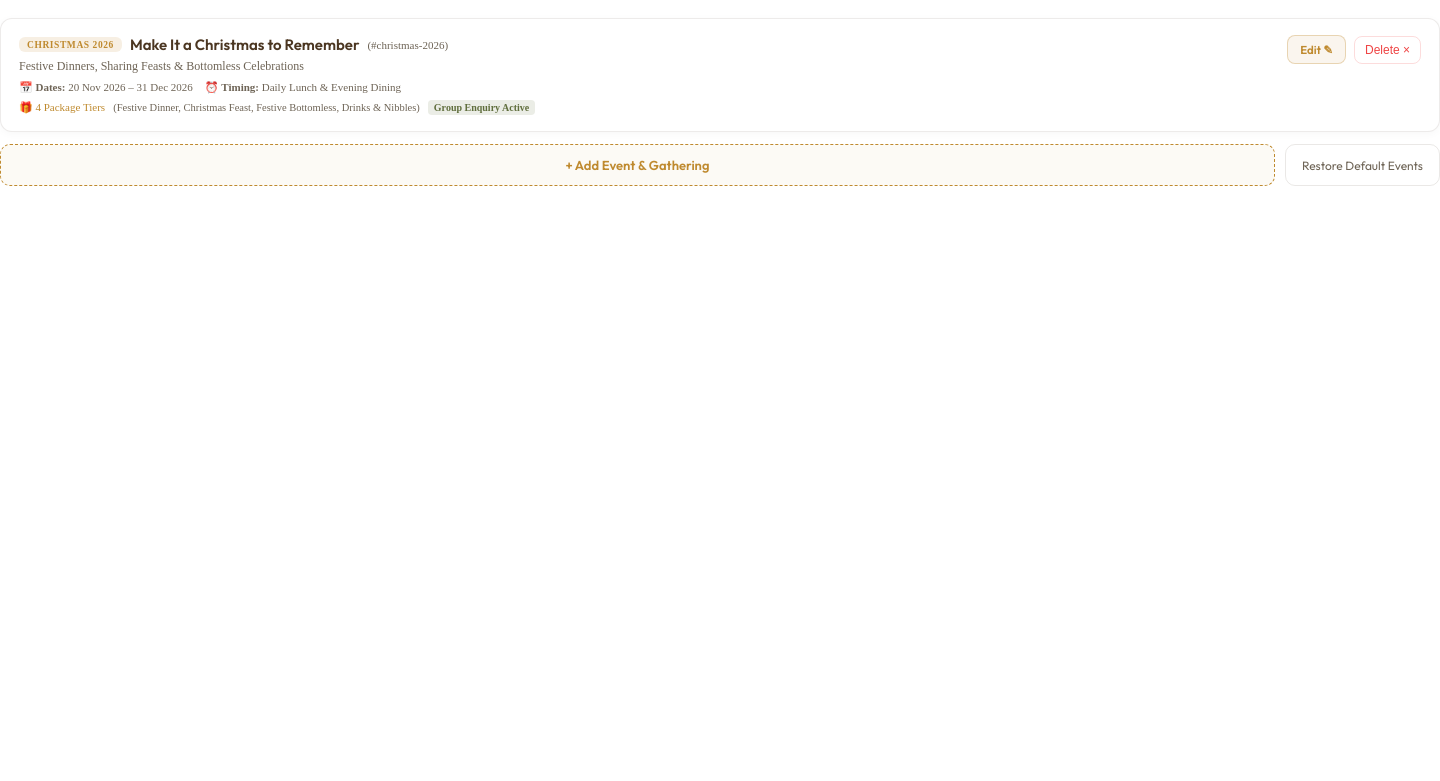
Test: EventsManager: Staff Events & Gatherings Portal Management › allows staff to create and add a brand new event
Note: Click Add Event
Click the button "+ Add Event & Gathering". click: x=637, y=165
box: [0,144,1275,186]
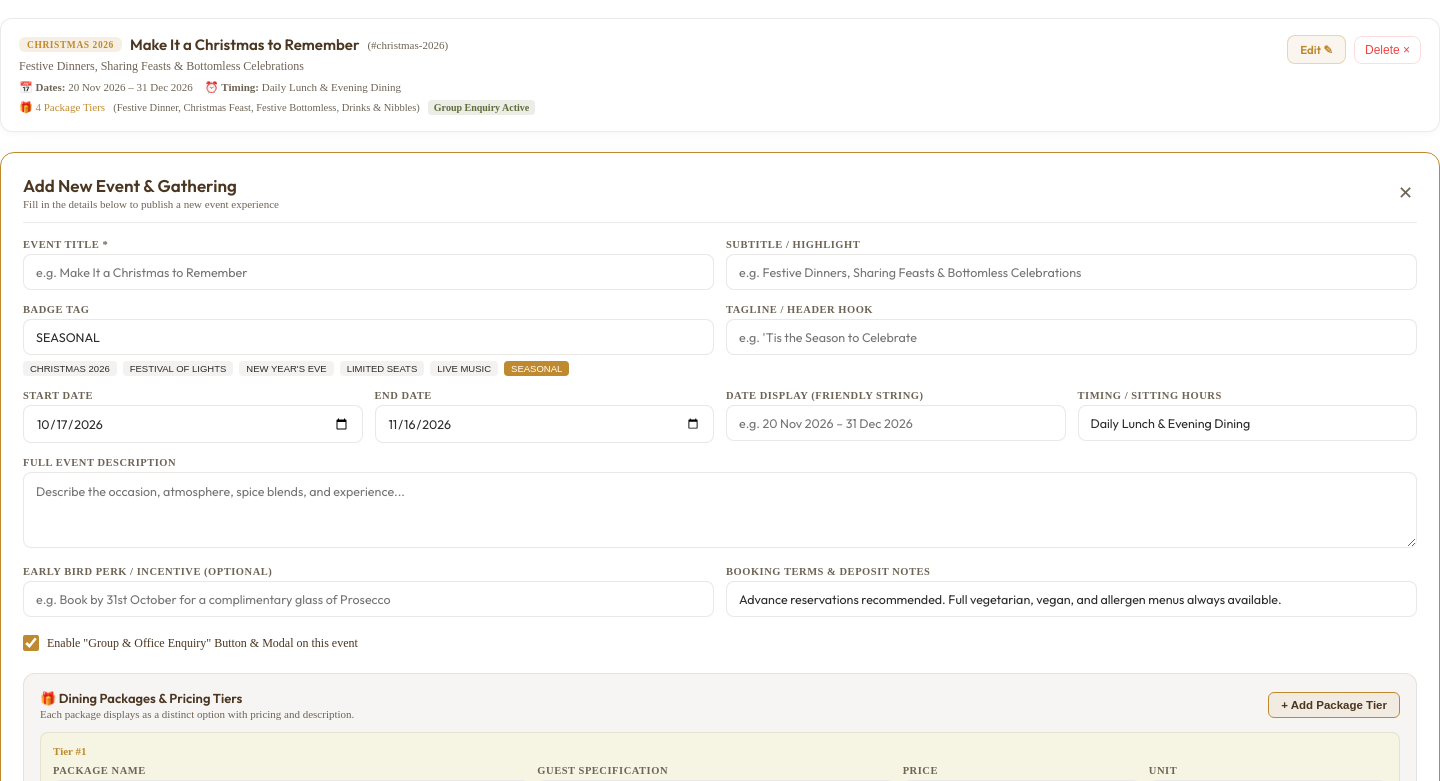
Check: the heading "Add New Event & Gathering" is shown, box [23,175,237,196]
Note: Fill in required Title
Type "Spring Equinox Spice Gala 2027" into the field with placeholder "e.g. Make It a Christmas to Remember". click: x=368, y=272
box: [23,254,714,290]
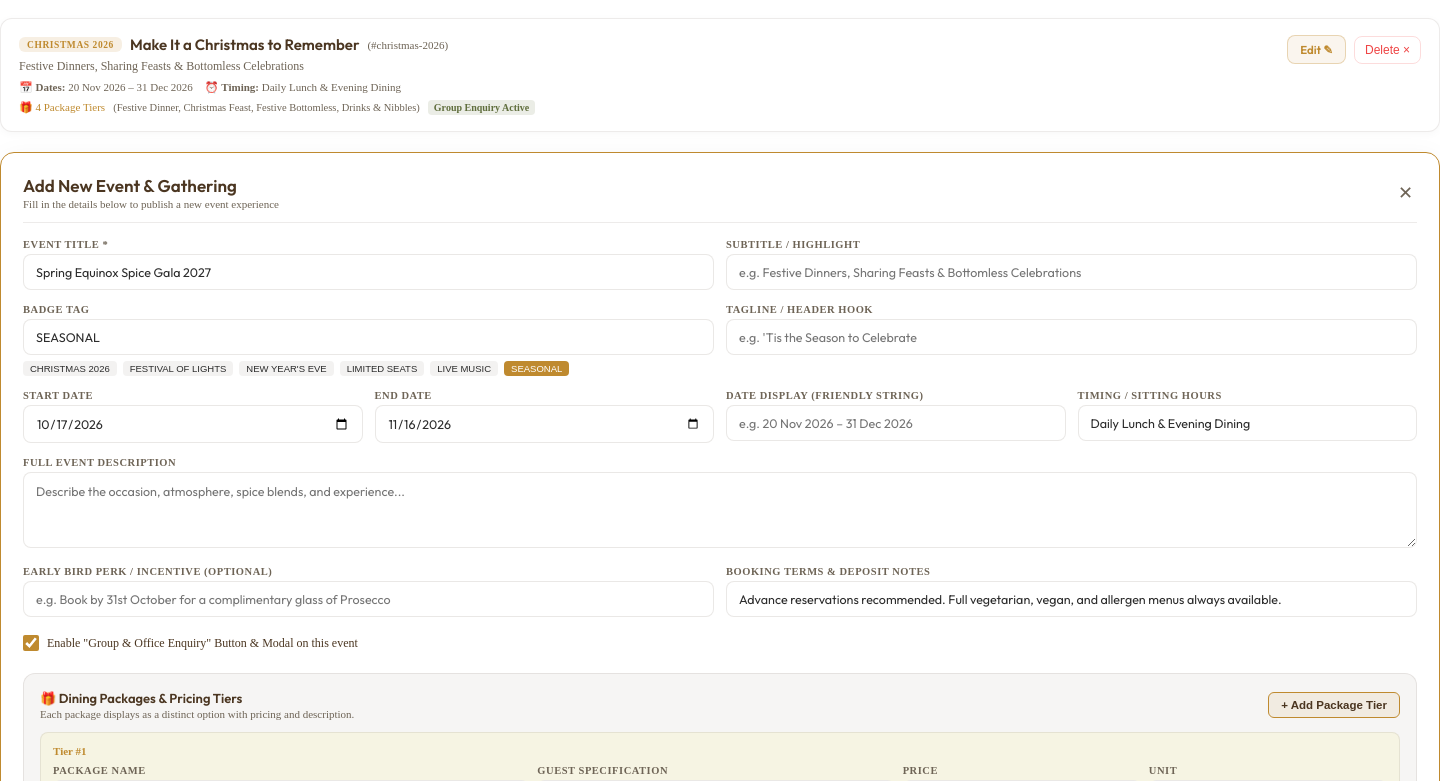
Replace the text in the field with placeholder "Festive Dinners, Sharing Feasts" with "Celebratory 5-Course Tasting Menu". click: x=1072, y=272
box: [726,254,1417,290]
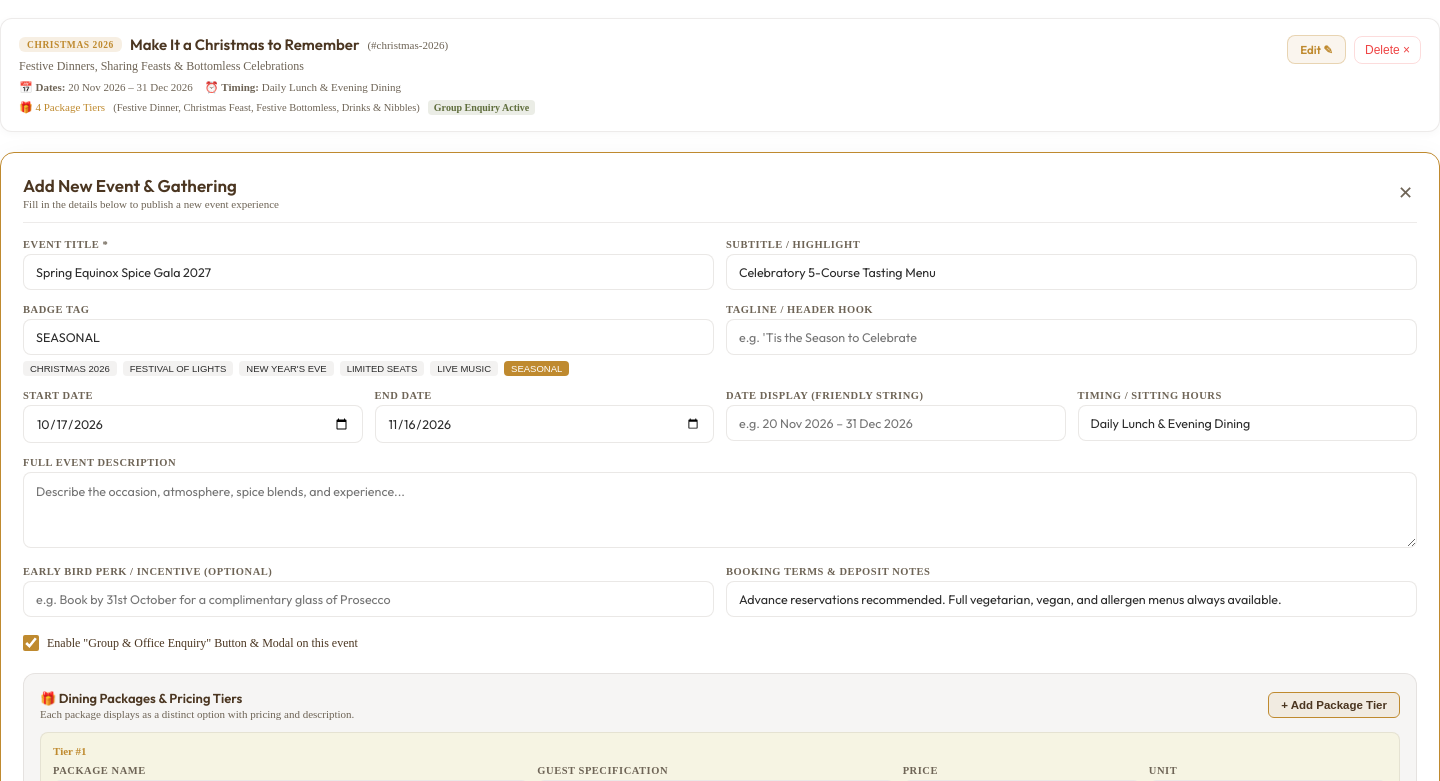
Type "20 Mar 2027 – 22 Mar 2027" into the field with placeholder "e.g. 20 Nov 2026 – 31 Dec 2026". click: x=896, y=423
box: [726,405,1066,441]
(page scrolled)
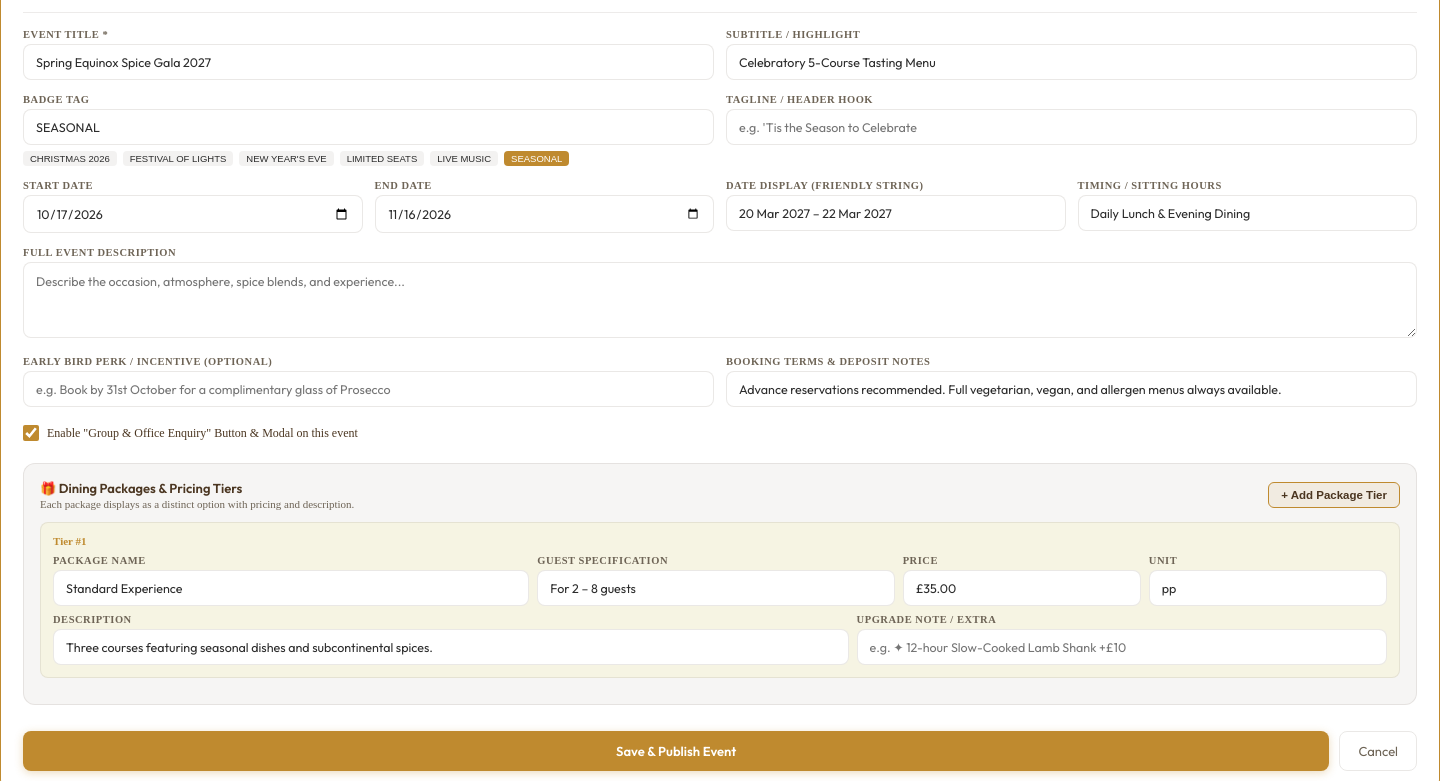
Click the button "Save & Publish Event". click: x=676, y=751
box: [23,731,1330,771]
(page scrolled)
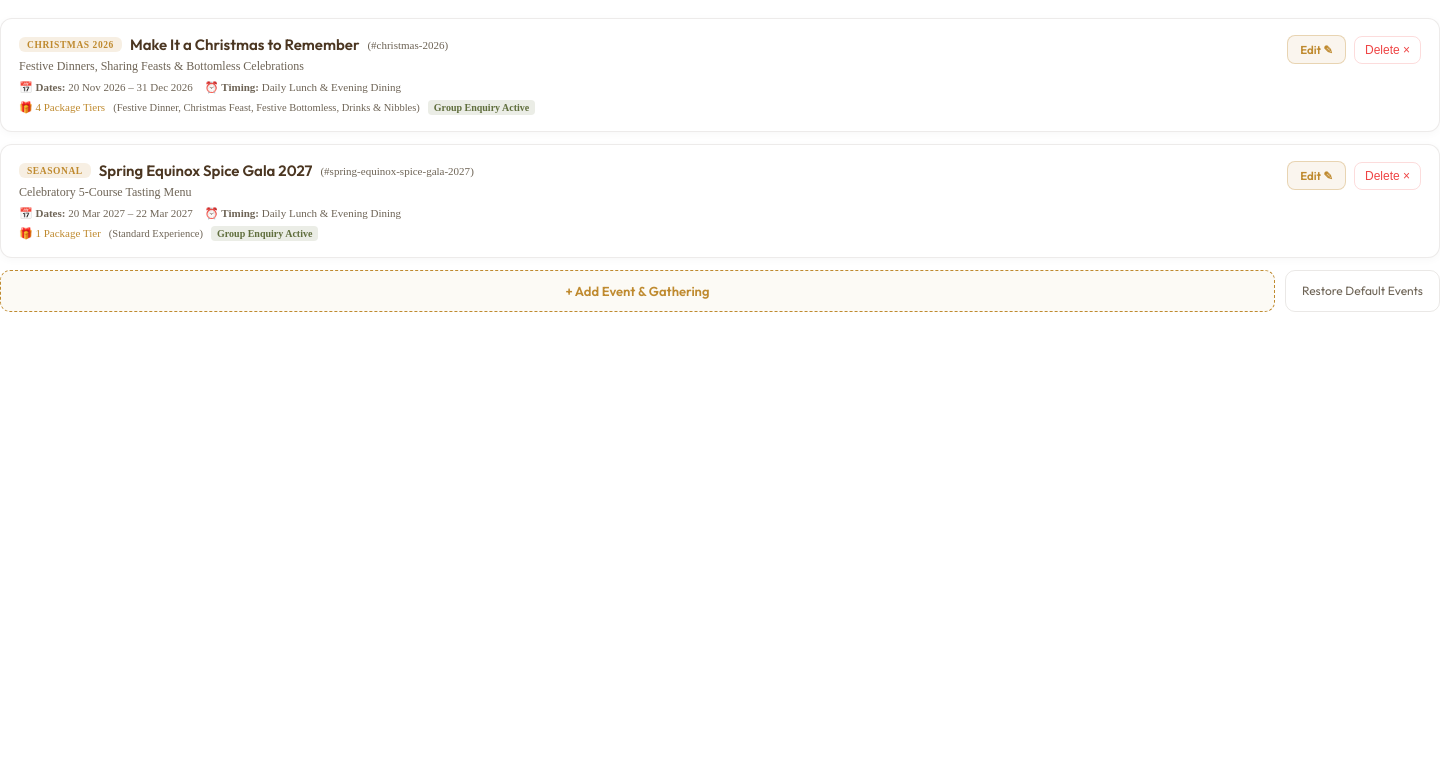
Check: the heading "Spring Equinox Spice Gala 2027" is shown, box [99,161,312,180]
Check: the text "Celebratory 5-Course Tasting Menu" is shown, box [19,185,192,199]
Check: the text "📅 Dates: 20 Mar 2027 – 22 Mar 2027" is shown, box [19,207,193,220]
